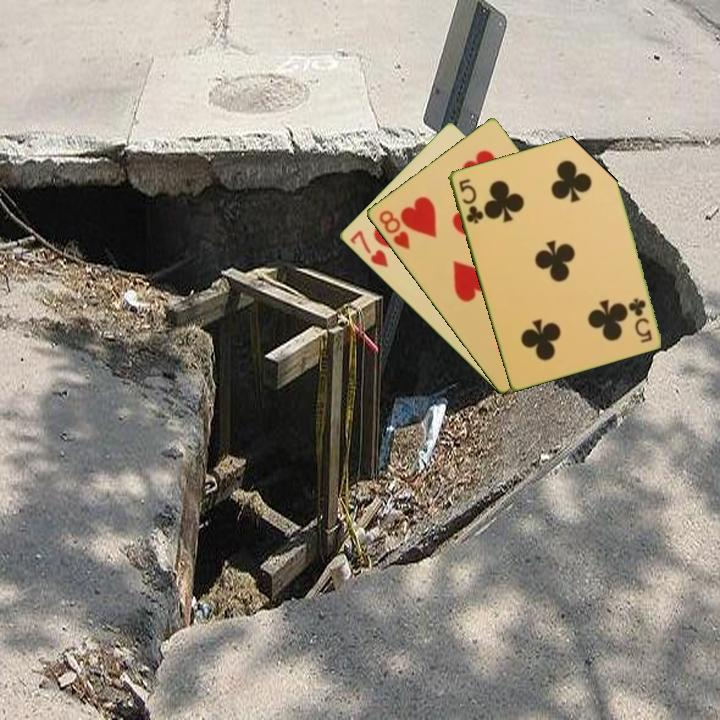5c: (455, 175, 486, 227), (626, 294, 655, 345)
7h: (346, 226, 391, 271)
8h: (375, 206, 413, 252)
